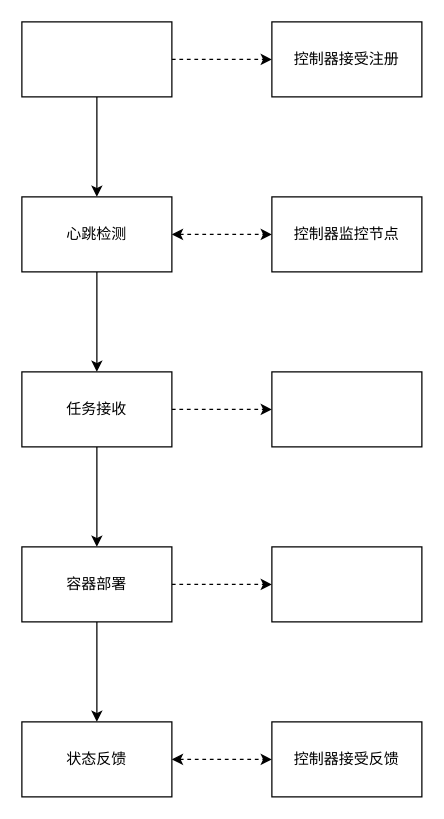
The diagram is 444 pixels wide and 819 high, and some of its shapes have lost their labels. The shapes that lost their labels are listed below. From the top down, each one's box as (x1, y1, x2, y2) in pixels, then its label:
(21, 21, 172, 97): 节点注册
(271, 371, 422, 447): 控制下发任务
(271, 546, 422, 622): 节点启动容器
